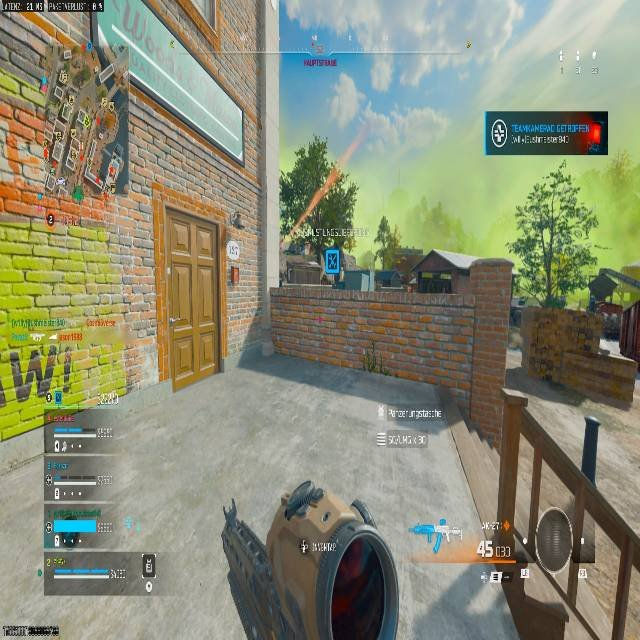player: (400, 566, 535, 639)
